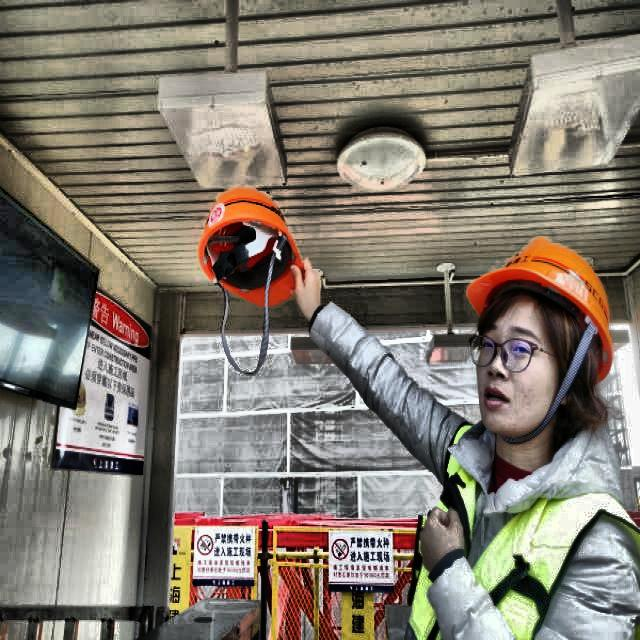person: (418, 207, 632, 640)
